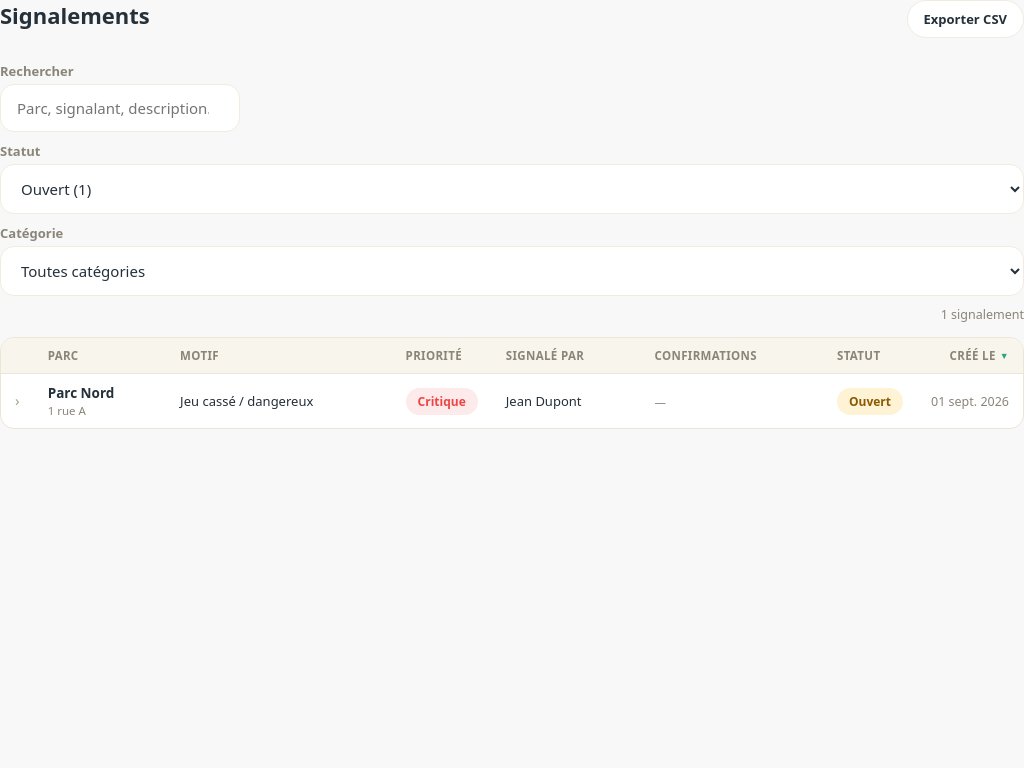
Test: Reports — file de triage (Lot Admin-2) › Admin-UI-6C : le clic sur le reste de la ligne ouvre toujours le signalement
Check: the link "Parc Nord" is shown, box [48,384,114,402]
Click the text "Jean Dupont" at [566, 401], box [492,374,640,428]
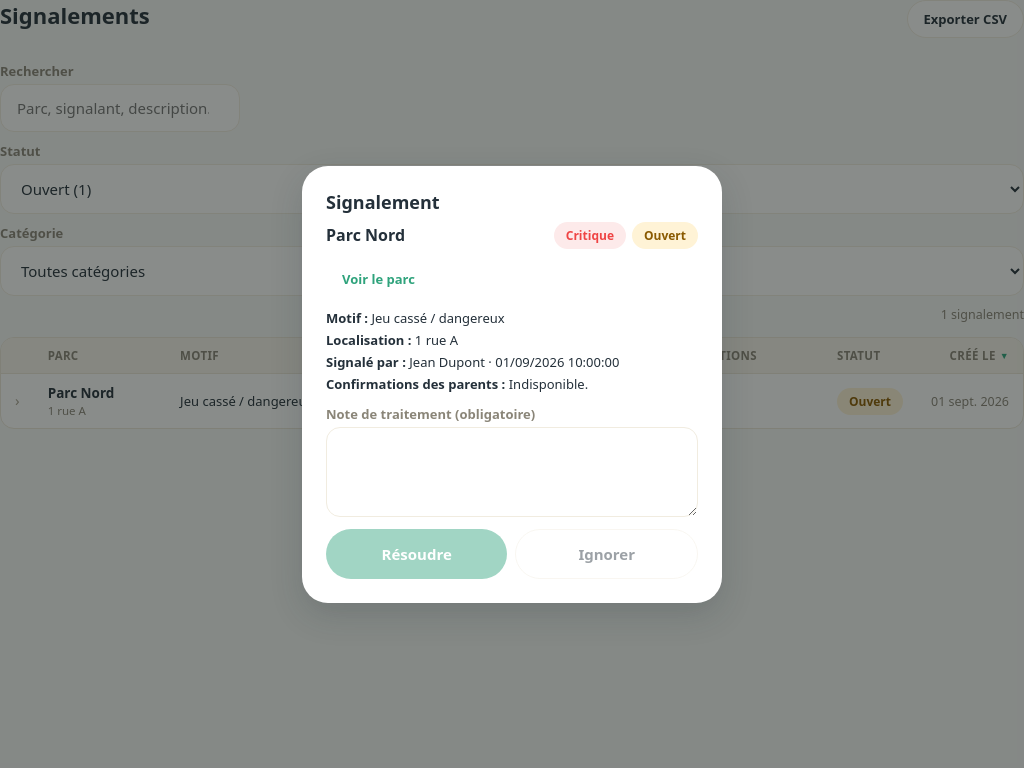
Check: the dialog is shown, box [302,166,722,602]
